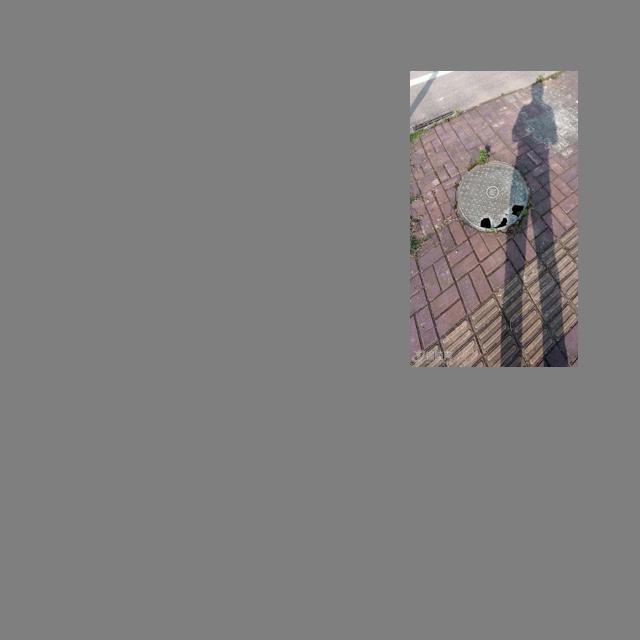broke: (452, 154, 534, 235)
